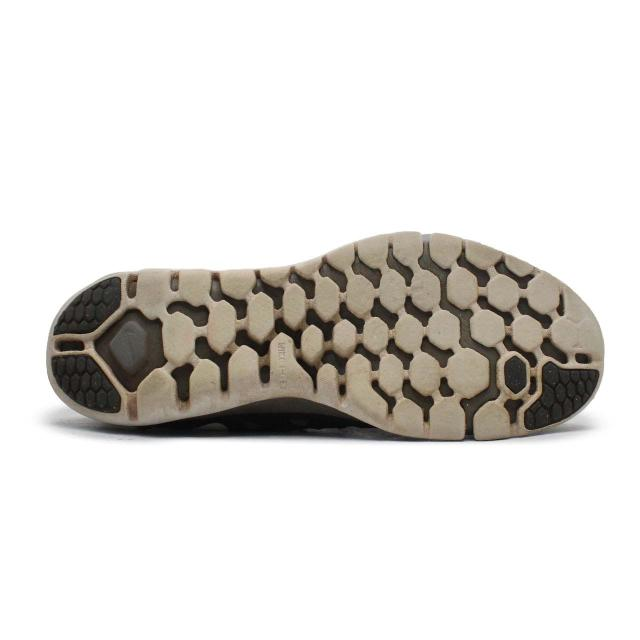outersole: (46, 229, 610, 439)
